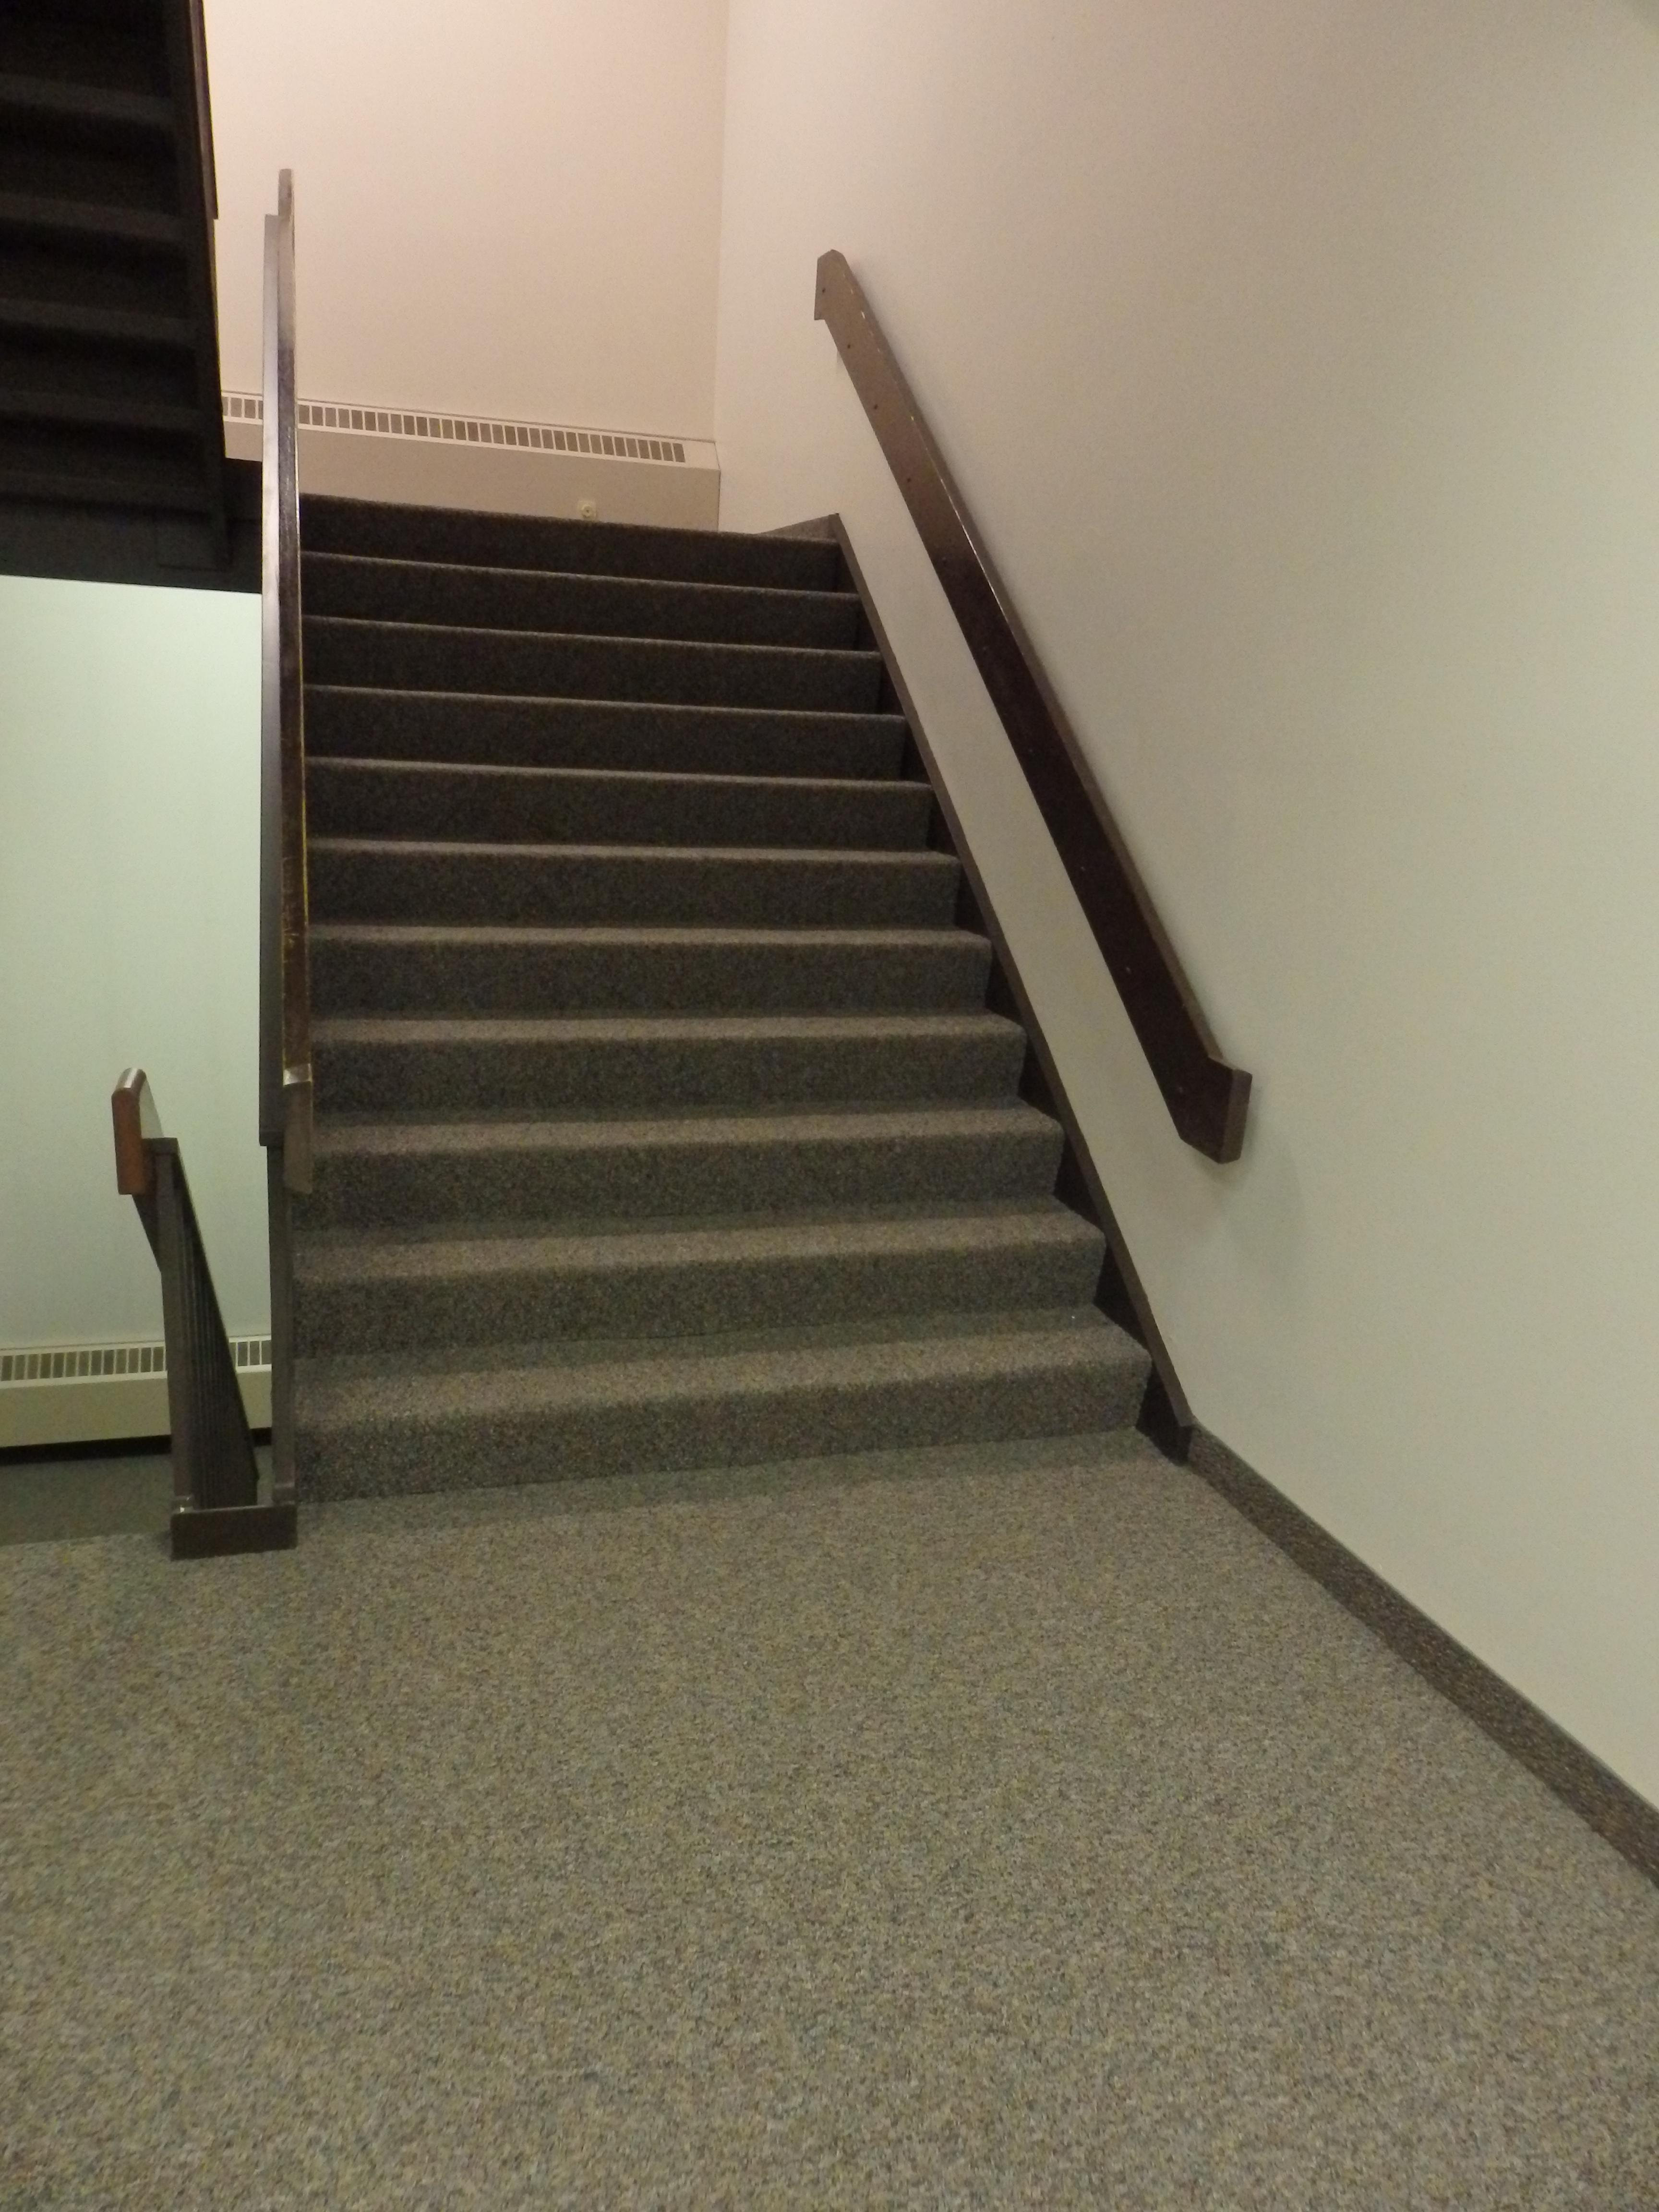stairs_up: (296, 463, 1007, 1463)
